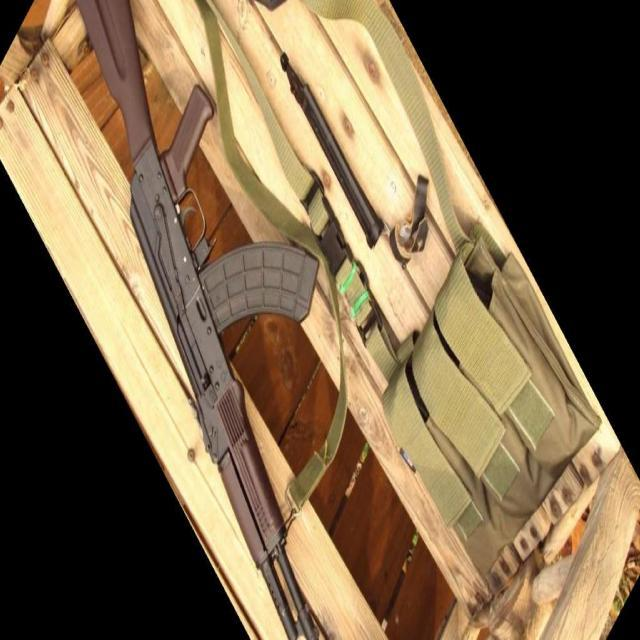weapon: (72, 0, 322, 640)
